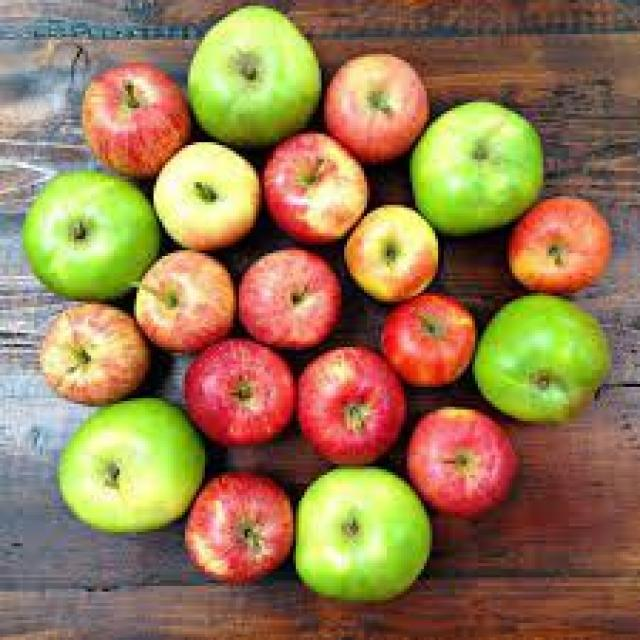fresh_apple: (56, 400, 206, 539), (297, 465, 431, 610), (408, 102, 548, 236), (23, 169, 165, 300), (191, 7, 324, 144), (476, 300, 613, 425), (321, 54, 441, 162), (34, 302, 154, 406), (409, 406, 524, 514), (300, 353, 411, 461), (263, 134, 371, 242), (182, 337, 293, 442), (81, 64, 192, 169), (239, 243, 344, 346)
